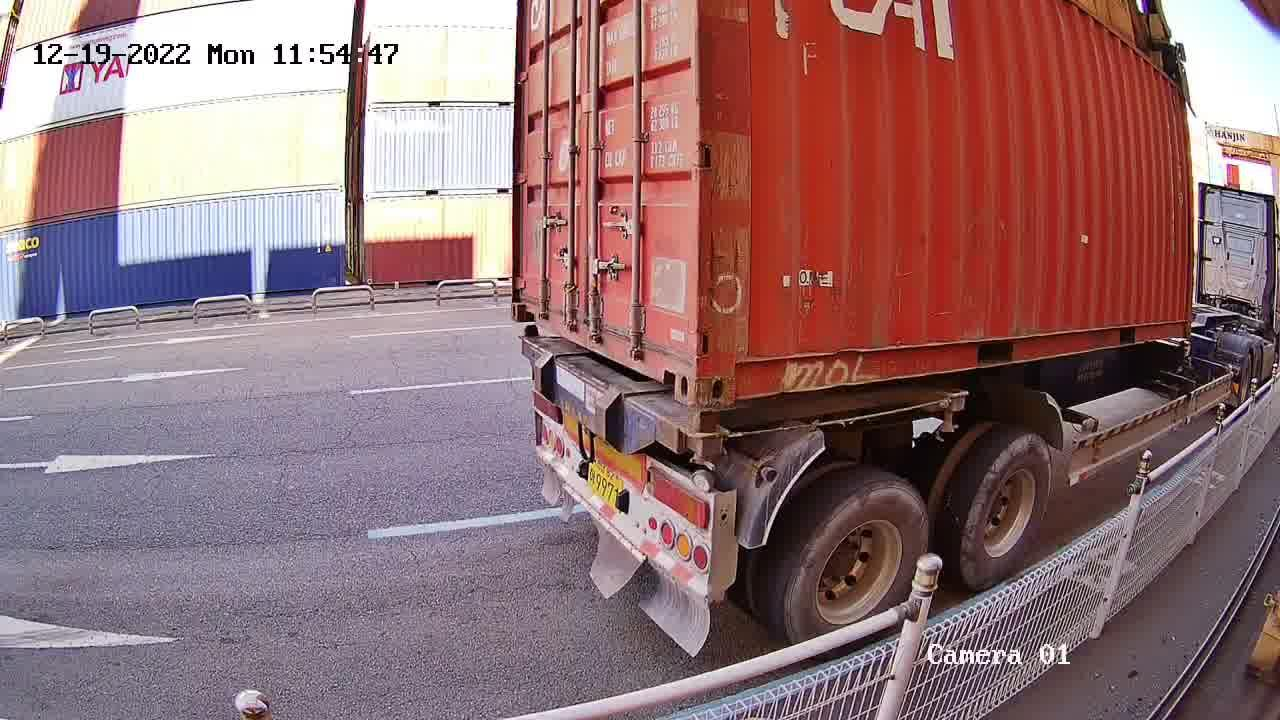Chassis: (519, 337, 723, 466)
Cone: (686, 412, 728, 471), (521, 324, 540, 362)
Hole_L: (697, 333, 773, 407), (511, 280, 542, 325)
Hole_R: (649, 324, 694, 406)
Tire: (794, 488, 926, 634), (963, 437, 1053, 592)
